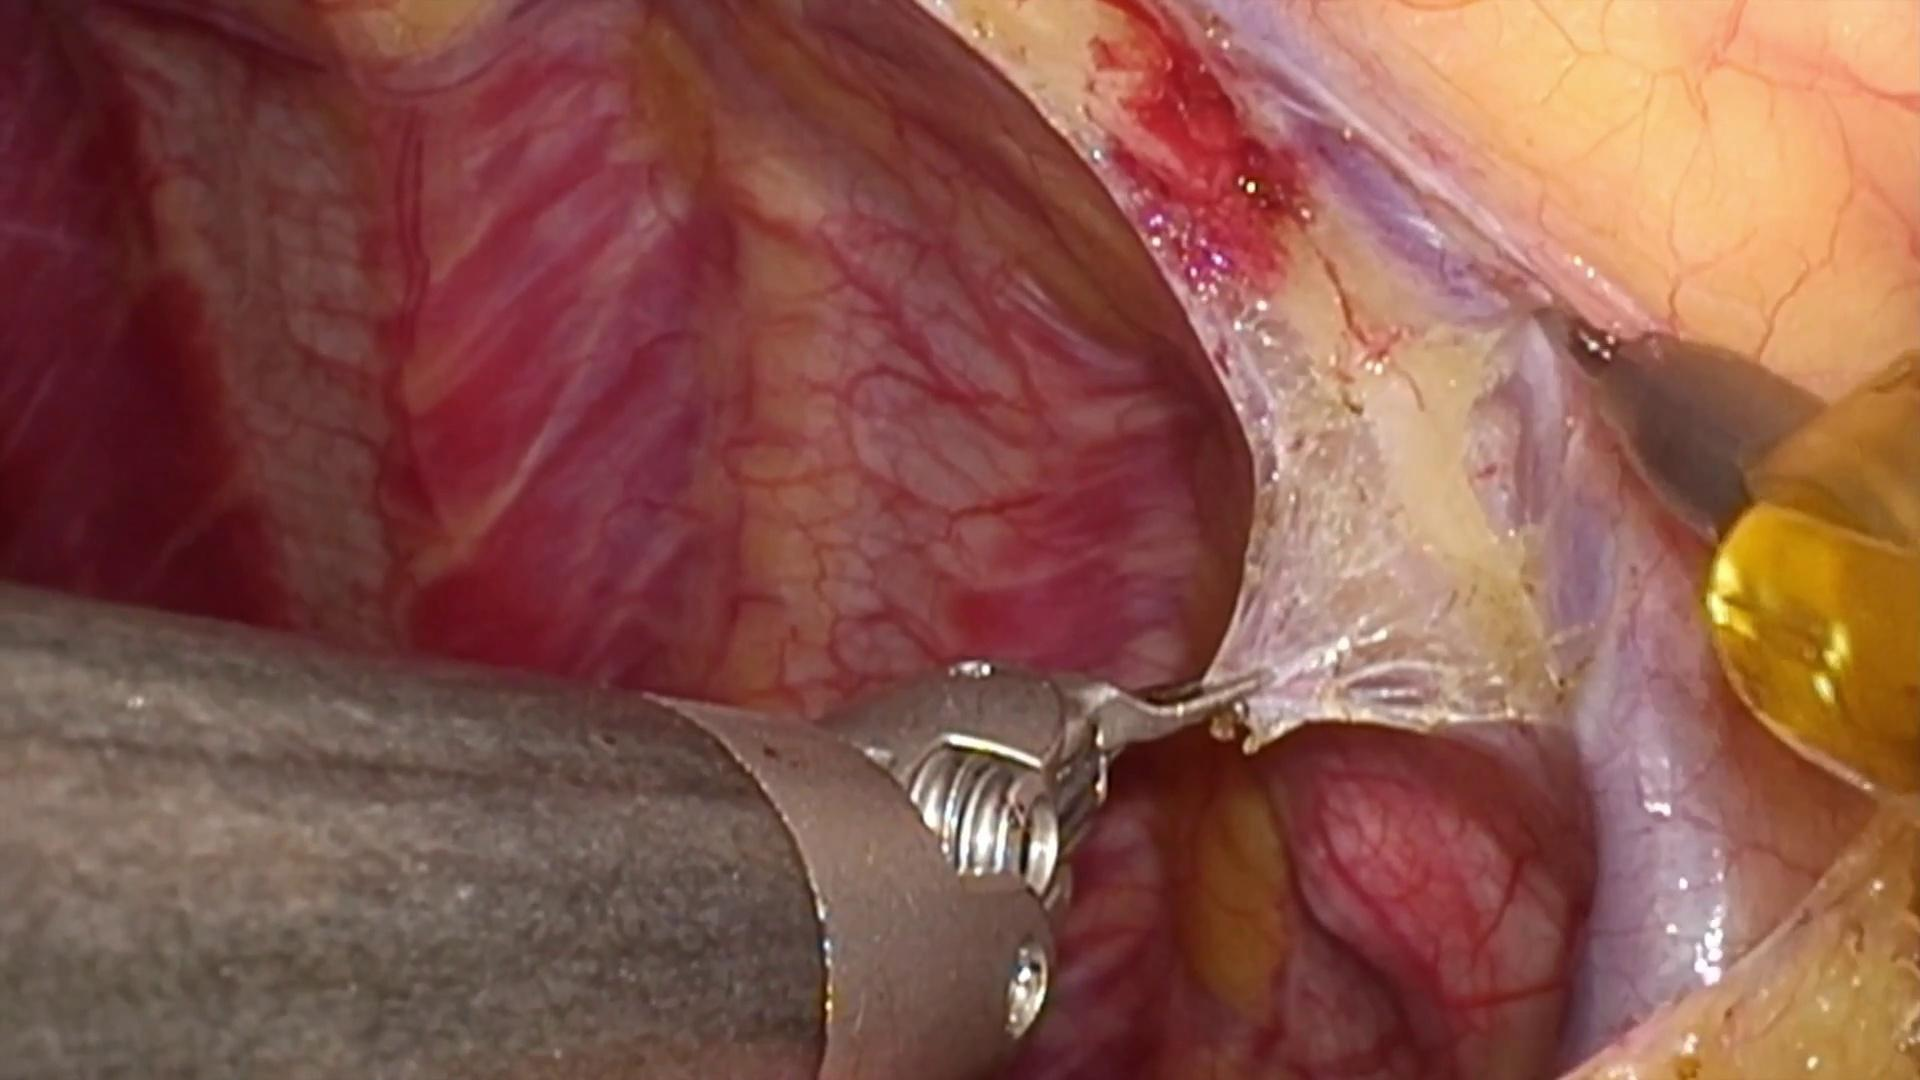Cautery_Spatula: (1544, 293, 1828, 538)
Debakey: (1046, 649, 1282, 807)
